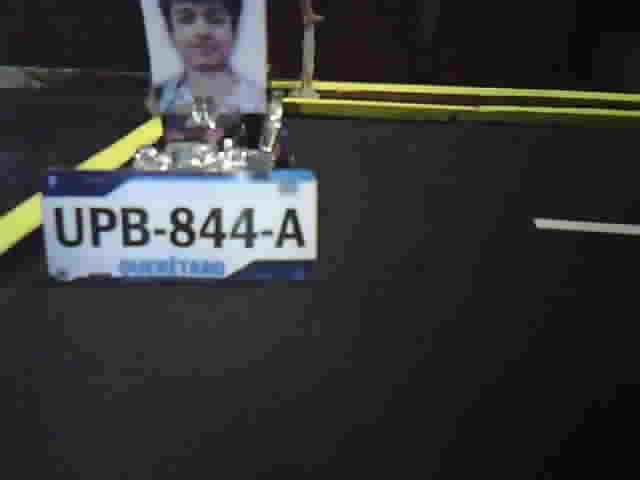PLACA: (39, 166, 322, 283)
ROSTRO: (150, 1, 265, 113)
